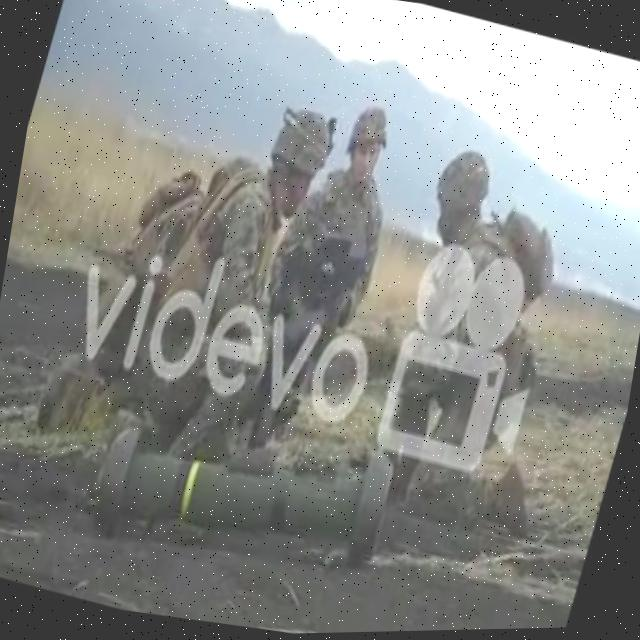rocket: (82, 370, 417, 602)
